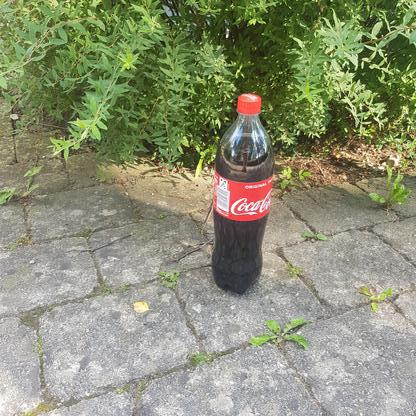coca-cola: (209, 92, 276, 298)
